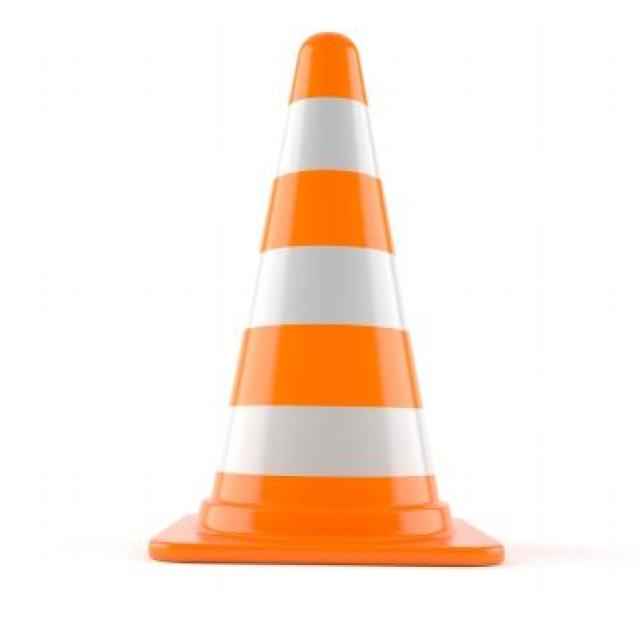Cone: (156, 32, 500, 565)
